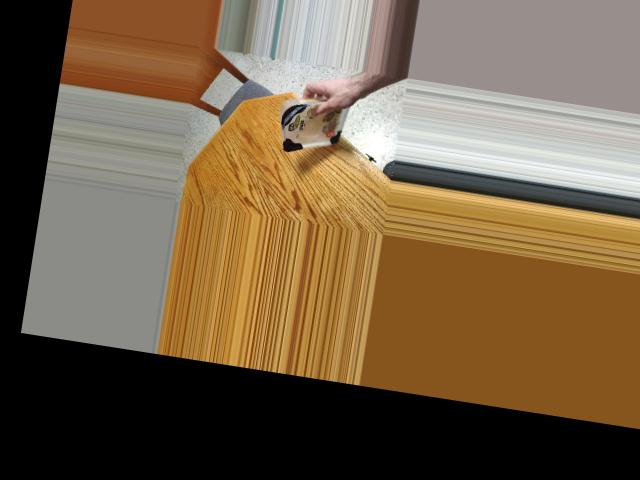cheese: (272, 93, 353, 154)
